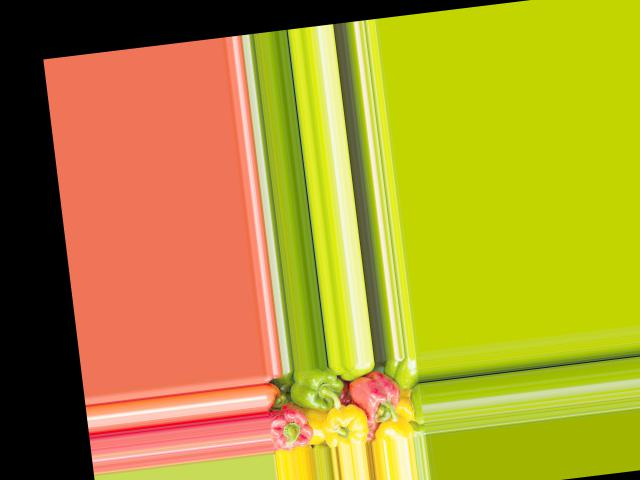bell_pepper: (268, 400, 320, 452)
